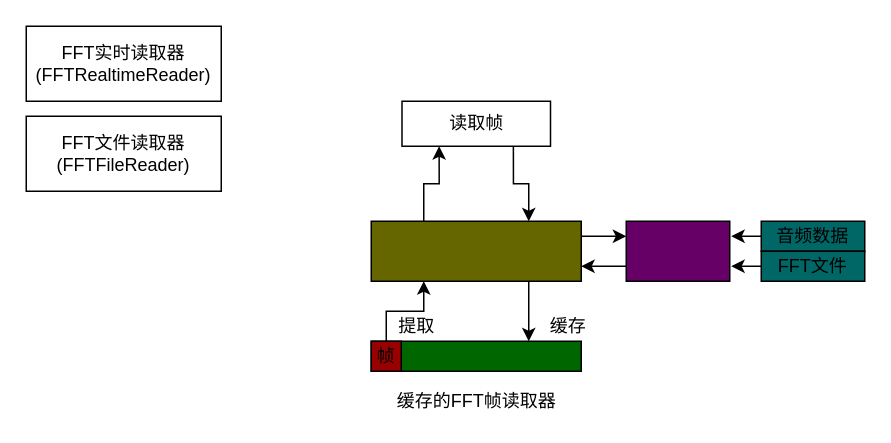
Image size: 891x443. Some labels were removed from this diagram. Each missing label, with the box of its shape:
帧生成器: (625, 220, 730, 281)
帧缓存: (370, 340, 581, 371)
帧读取器: (370, 220, 581, 281)
